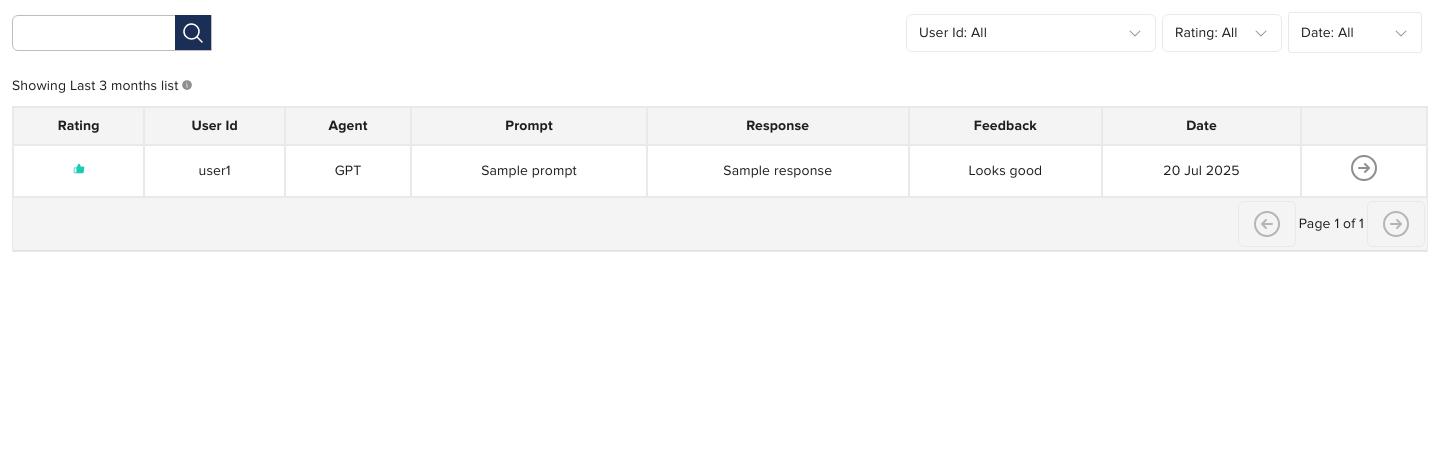
FeedbackTabComponent › renders no result state when search returns empty
Expected: the text "Sample prompt" is shown, [481,162,577,179]
In the field: (100, 32) [25,16,175,48], type "unknown"
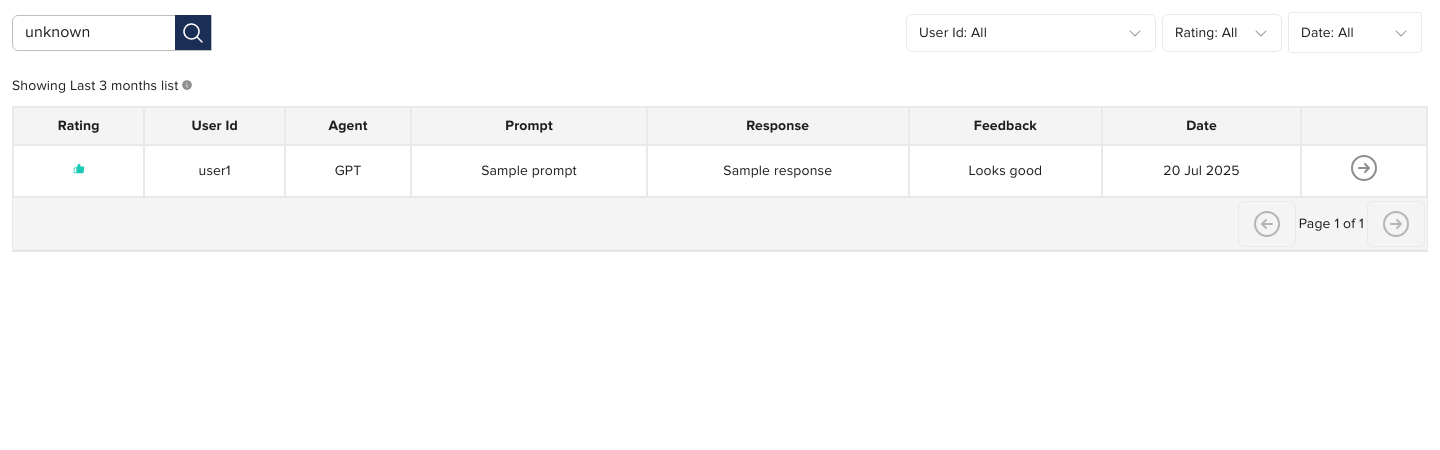
Press Enter in the field, box [25,16,175,48]
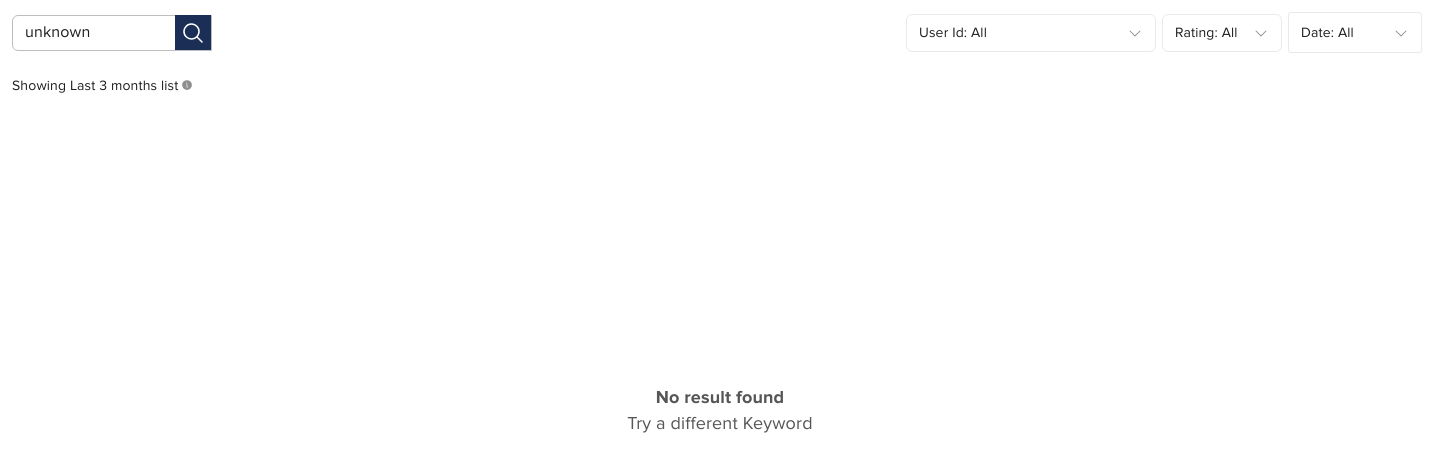
Expected: the text "No result found" is shown, [656,386,784,408]
Expected: the text "Try a different Keyword" is shown, [627,412,813,434]
